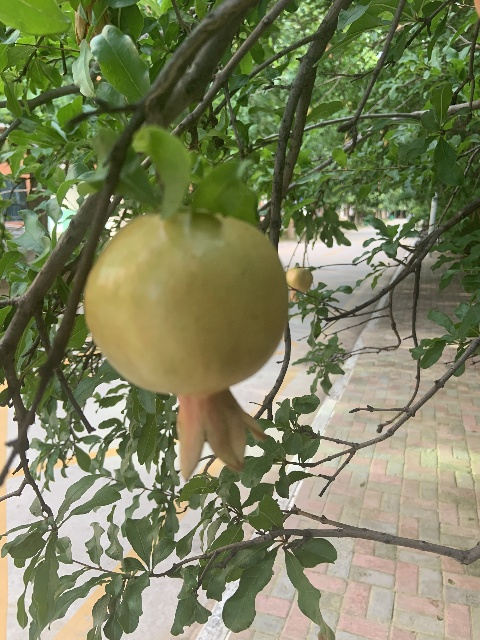mid-growth: (86, 211, 287, 477), (286, 268, 313, 303)
